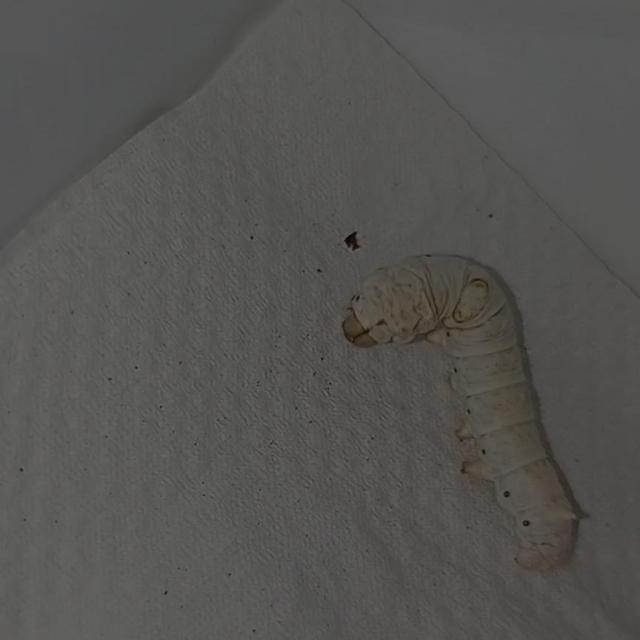Healthy: (324, 230, 608, 590)
